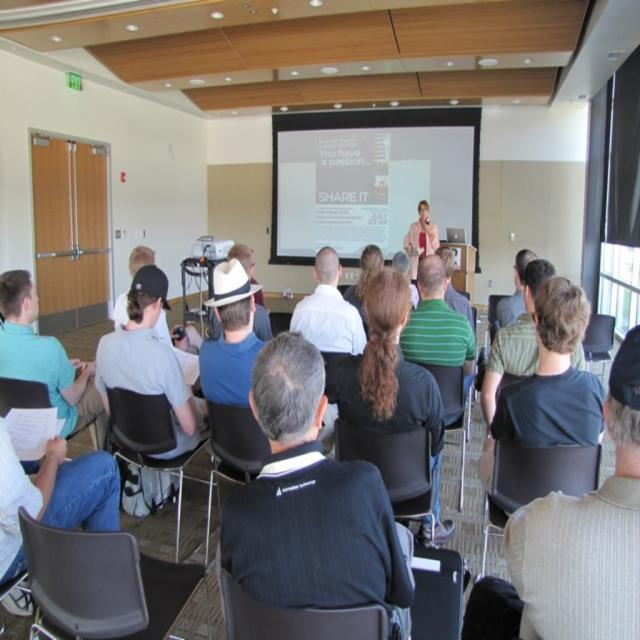Hat: (202, 254, 263, 312), (607, 322, 639, 407)
